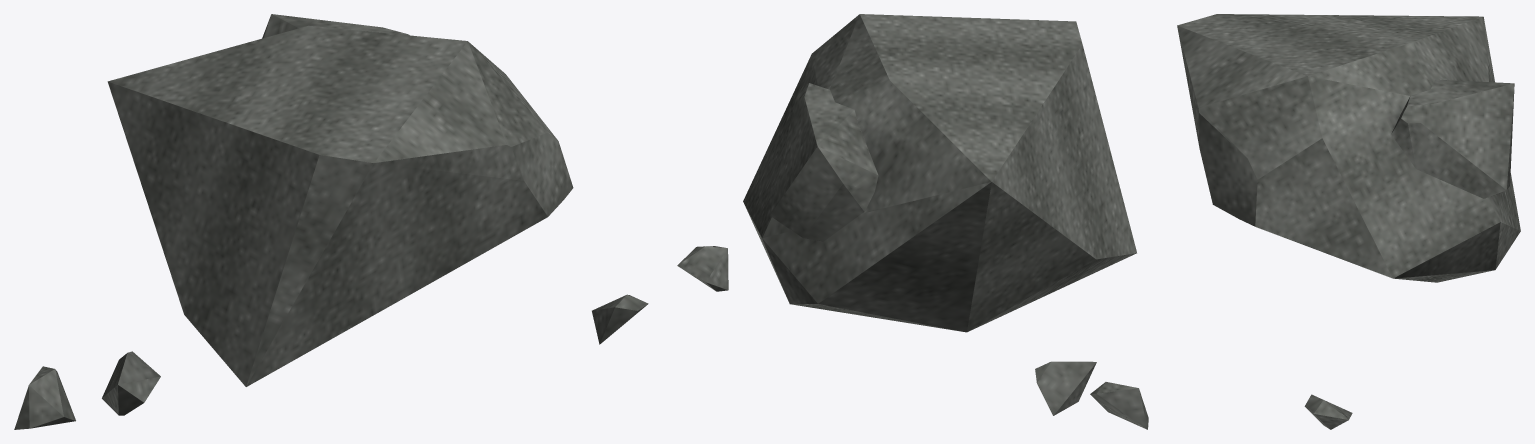
File: boulder_22.glb
The picture shows the model from 3 angles, left to right: view 1: azimuth 30°, elevation 25°; view 2: azimuth 150°, elevation 25°; view 3: azimuth 270°, elevation 25°; orthographic projection. The views are drawn at different scales.
Visible parts, largest first — view 1: boulder_22_c0; view 2: boulder_22_c0; view 3: boulder_22_c0.
Boxes of the visible parts, x1,y1,x2,y2 form: boulder_22_c0: [14, 14, 648, 429]; boulder_22_c0: [677, 14, 1148, 429]; boulder_22_c0: [1177, 14, 1520, 429].
Bounding box in the file's own units: 3.05 × 1.74 × 1.86.
1 material, 1 textured.
